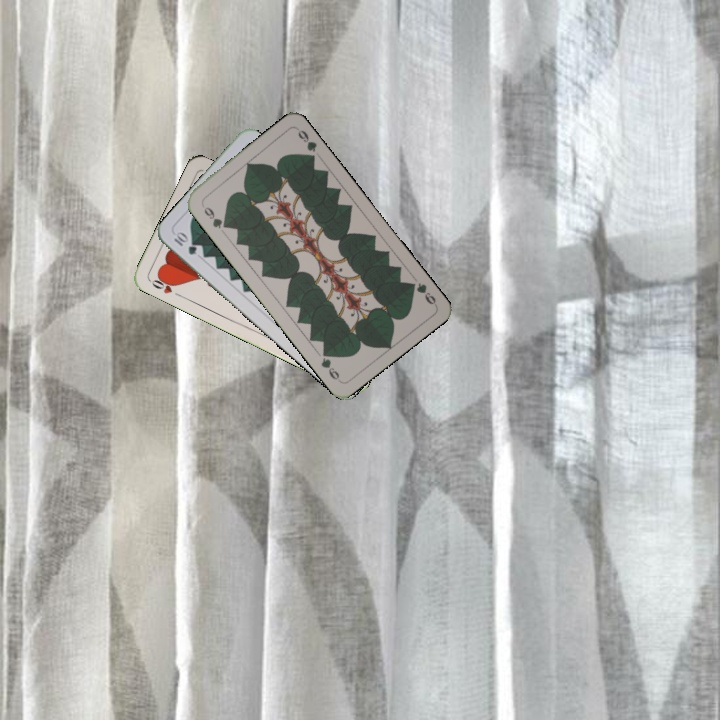G10: (169, 228, 199, 258)
G9: (197, 200, 231, 231), (404, 278, 439, 308)
HO: (146, 272, 184, 300)
